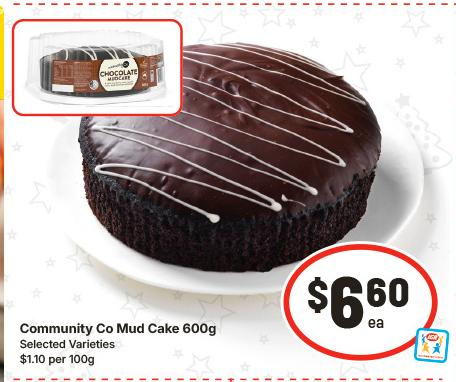description_block: (16, 318, 228, 341)
price_main: (283, 247, 420, 350)
product_image_block: (9, 13, 439, 277)
unit_price_block: (17, 350, 100, 367)
